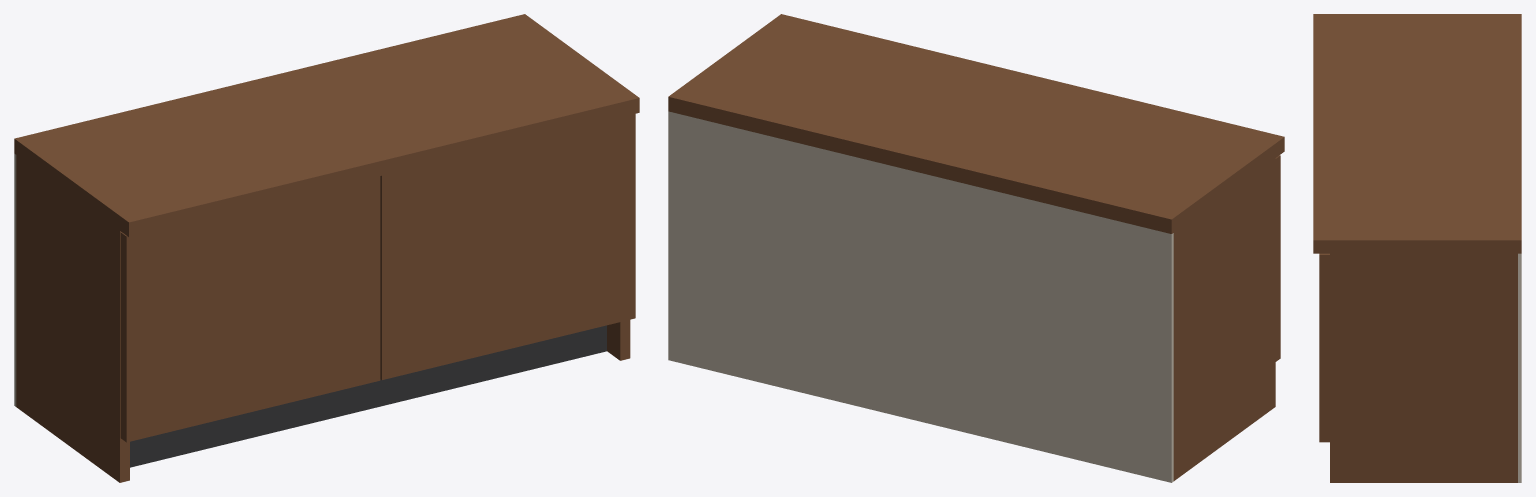
3 renders of one model, left to right at view 1: azimuth 30°, elevation 25°; view 2: azimuth 150°, elevation 25°; view 3: azimuth 270°, elevation 25°, orthographic. The views are drawn at different scales.
Parts seen in each view (by area): view 1: S01-P10_Seat_top, S01-P11_Door_bay1, S01-P12_Door_bay2, S01-P01_Side_panel_L, S01-P04_Kick_rail_(front_plinth), S01-P02_Side_panel_R, S01-P09_Back_panel; view 2: S01-P09_Back_panel, S01-P10_Seat_top, S01-P01_Side_panel_L, S01-P11_Door_bay1; view 3: S01-P10_Seat_top, S01-P02_Side_panel_R, S01-P12_Door_bay2, S01-P09_Back_panel.
Boxes of the visible parts, x1,y1,x2,y2 form: S01-P10_Seat_top: (14, 14, 639, 237); S01-P11_Door_bay1: (120, 176, 380, 442); S01-P12_Door_bay2: (380, 114, 635, 379); S01-P01_Side_panel_L: (16, 155, 129, 482); S01-P04_Kick_rail_(front_plinth): (130, 325, 606, 467); S01-P02_Side_panel_R: (607, 320, 630, 360); S01-P09_Back_panel: (14, 153, 16, 406); S01-P09_Back_panel: (668, 111, 1173, 482); S01-P10_Seat_top: (668, 14, 1284, 233); S01-P01_Side_panel_L: (1173, 158, 1275, 480); S01-P11_Door_bay1: (1275, 155, 1280, 361); S01-P10_Seat_top: (1313, 14, 1521, 253); S01-P02_Side_panel_R: (1330, 253, 1517, 482); S01-P12_Door_bay2: (1319, 253, 1329, 442); S01-P09_Back_panel: (1518, 253, 1521, 482).
Bounding box in the file's own units: 900 × 450 × 350.
